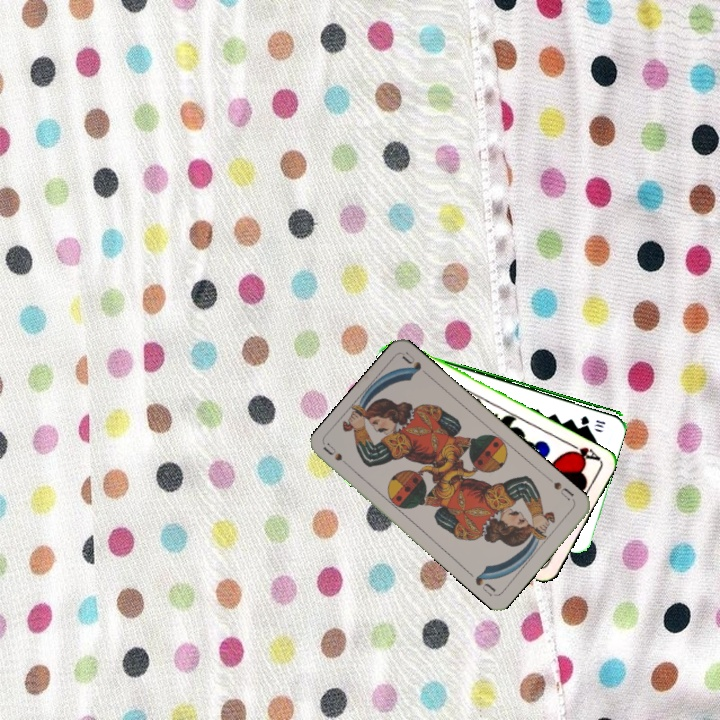G10: (577, 412, 608, 430)
HA: (564, 438, 602, 465)
SU: (320, 440, 356, 472), (544, 473, 577, 505)
